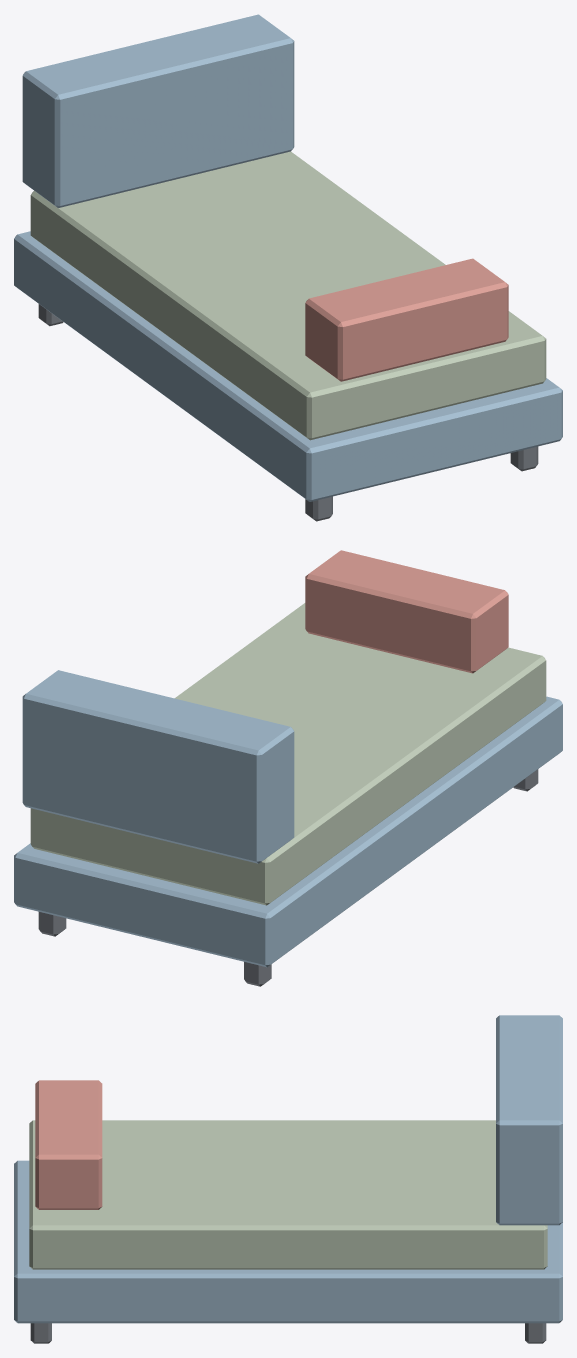
File: Chaise_1.glb
3 renders of one model, top to bottom at view 1: azimuth 30°, elevation 25°; view 2: azimuth 150°, elevation 25°; view 3: azimuth 270°, elevation 25°, orthographic. The views are drawn at different scales.
Parts seen in each view (by area): view 1: Sofa_Chaise_1_Body; view 2: Sofa_Chaise_1_Body; view 3: Sofa_Chaise_1_Body.
Part boxes in pixels (x1,y1,x2,y2): Sofa_Chaise_1_Body: [14, 14, 562, 521]; Sofa_Chaise_1_Body: [14, 550, 562, 986]; Sofa_Chaise_1_Body: [14, 1015, 562, 1343].
Bounding box in the file's own units: 0.9 × 0.82 × 1.8.
